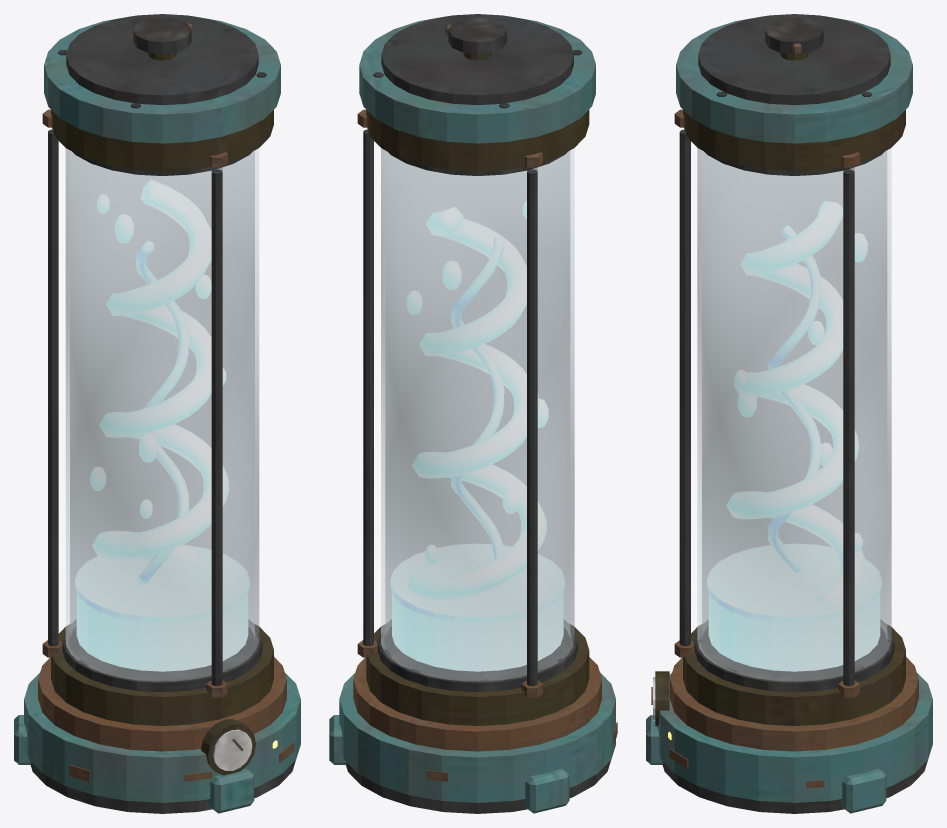
The model's file is A06_glass_tube_with_memory_fluid.glb.
3 views of the same model, side by side, from view 1: azimuth 30°, elevation 25°; view 2: azimuth 150°, elevation 25°; view 3: azimuth 270°, elevation 25° (orthographic).
Visible parts, largest first — view 1: Rubber sole; view 2: Rubber sole; view 3: Rubber sole.
Boxes of the visible parts, bbox=[...] form: Rubber sole: bbox=[14, 14, 300, 813]; Rubber sole: bbox=[329, 14, 617, 813]; Rubber sole: bbox=[646, 14, 932, 813].
Size of the model in its own units: 0.692 by 2 by 0.715.
10 materials, 6 textured.
